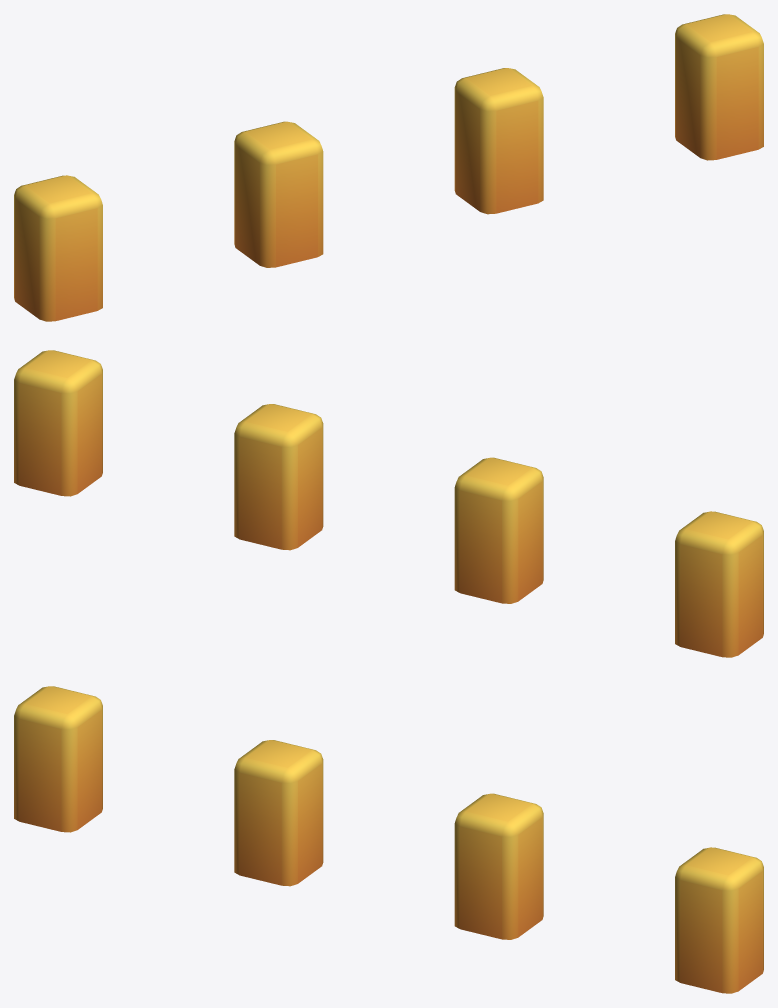
Rendered from colums.fbx.
3 views of the same model, one above another, from view 1: azimuth 30°, elevation 25°; view 2: azimuth 150°, elevation 25°; view 3: azimuth 330°, elevation 25° (orthographic).
Parts seen in each view (by area): view 1: colums; view 2: colums; view 3: colums.
Part boxes in pixels (box(x1,y1,x2,y2)): colums: box(14, 14, 763, 321); colums: box(14, 350, 763, 657); colums: box(14, 686, 763, 993).
Bounding box in the file's own units: 2207 × 331 × 190.
